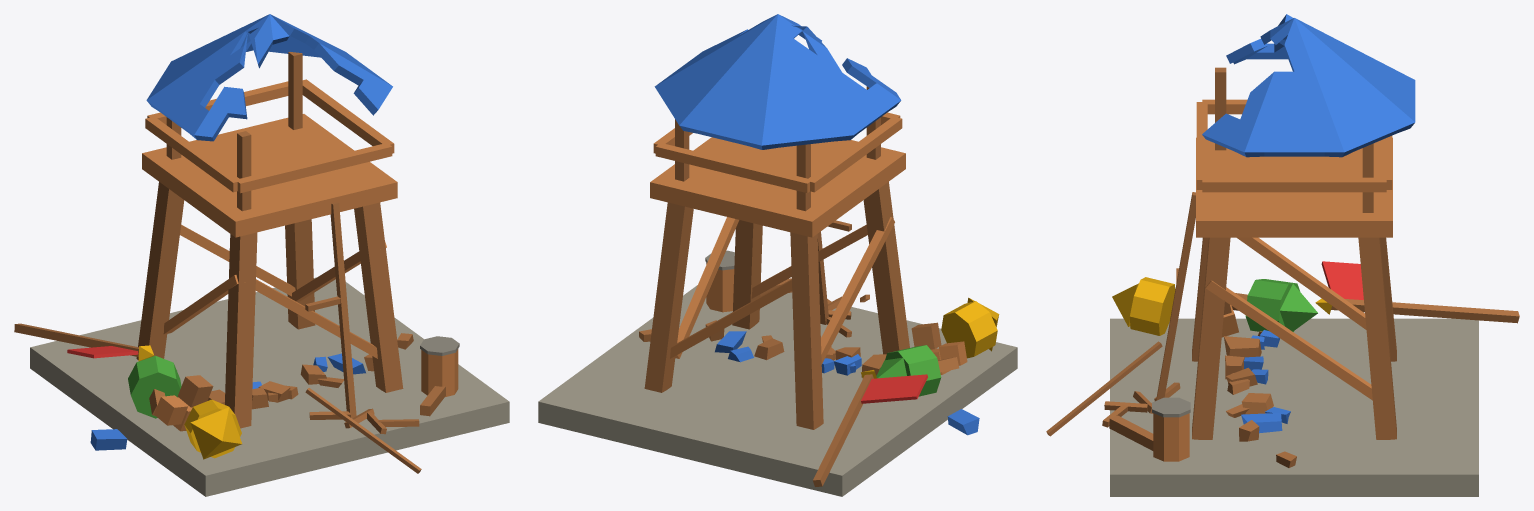
The model's file is defense_tower_t1_v2_dmg1.glb.
3 views of the same model, side by side, from view 1: azimuth 30°, elevation 25°; view 2: azimuth 150°, elevation 25°; view 3: azimuth 270°, elevation 25° (orthographic). The views are drawn at different scales.
Parts seen in each view (by area): view 1: defense_tower_t1_v2_dmg1; view 2: defense_tower_t1_v2_dmg1; view 3: defense_tower_t1_v2_dmg1.
Part boxes in pixels (left/top/right/bottom): defense_tower_t1_v2_dmg1: left=14, top=14, right=509, bottom=496; defense_tower_t1_v2_dmg1: left=538, top=14, right=1017, bottom=496; defense_tower_t1_v2_dmg1: left=1046, top=14, right=1519, bottom=496.
Bounding box in the file's own units: 0.6695 × 0.72 × 0.77.
Materials: 1 (1 with a texture image).
